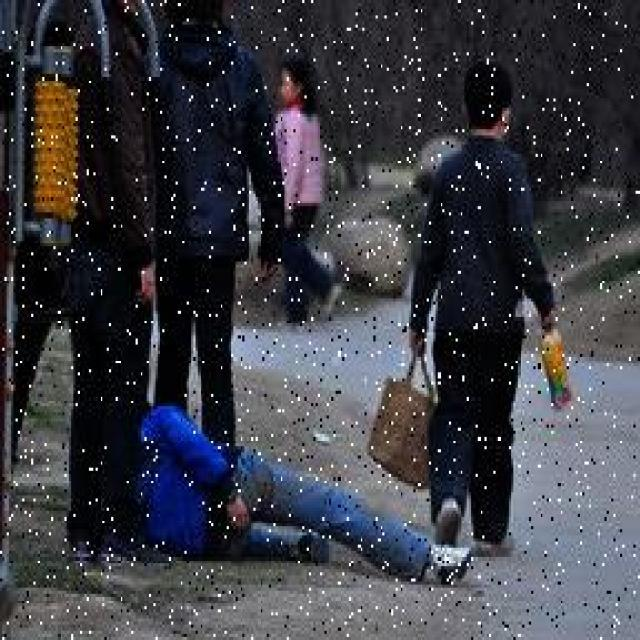fall: (128, 397, 476, 588)
